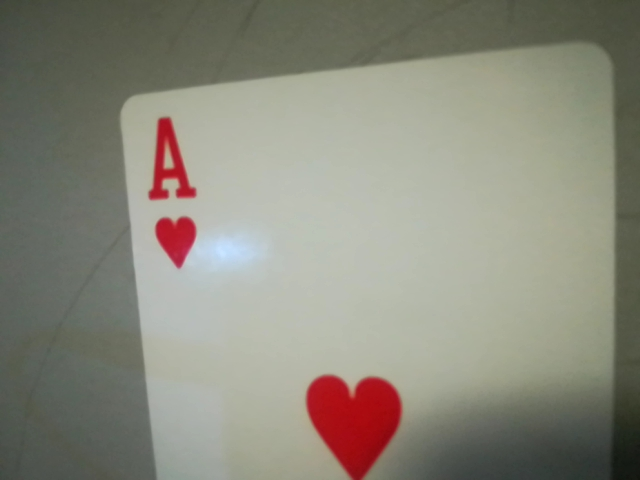hx a: (128, 105, 215, 283)
